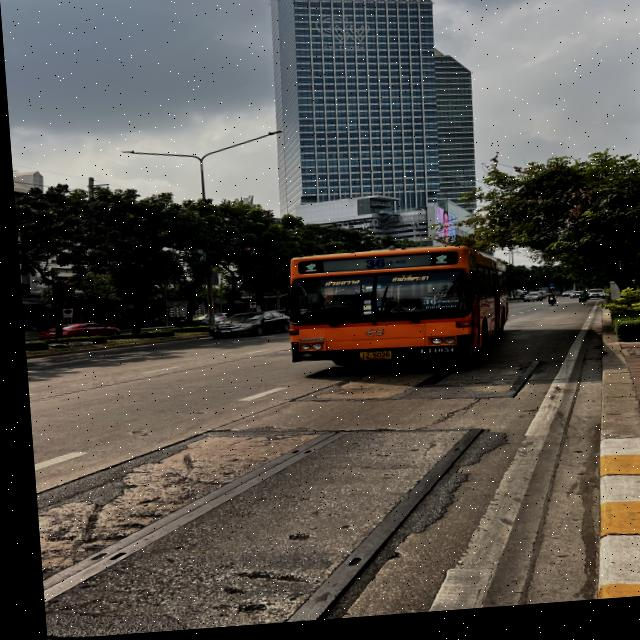BMTA-bus: (278, 246, 509, 378)
Bus-Line-Number: (354, 260, 407, 276)
Destination-Sign-Normal: (415, 302, 454, 318)
